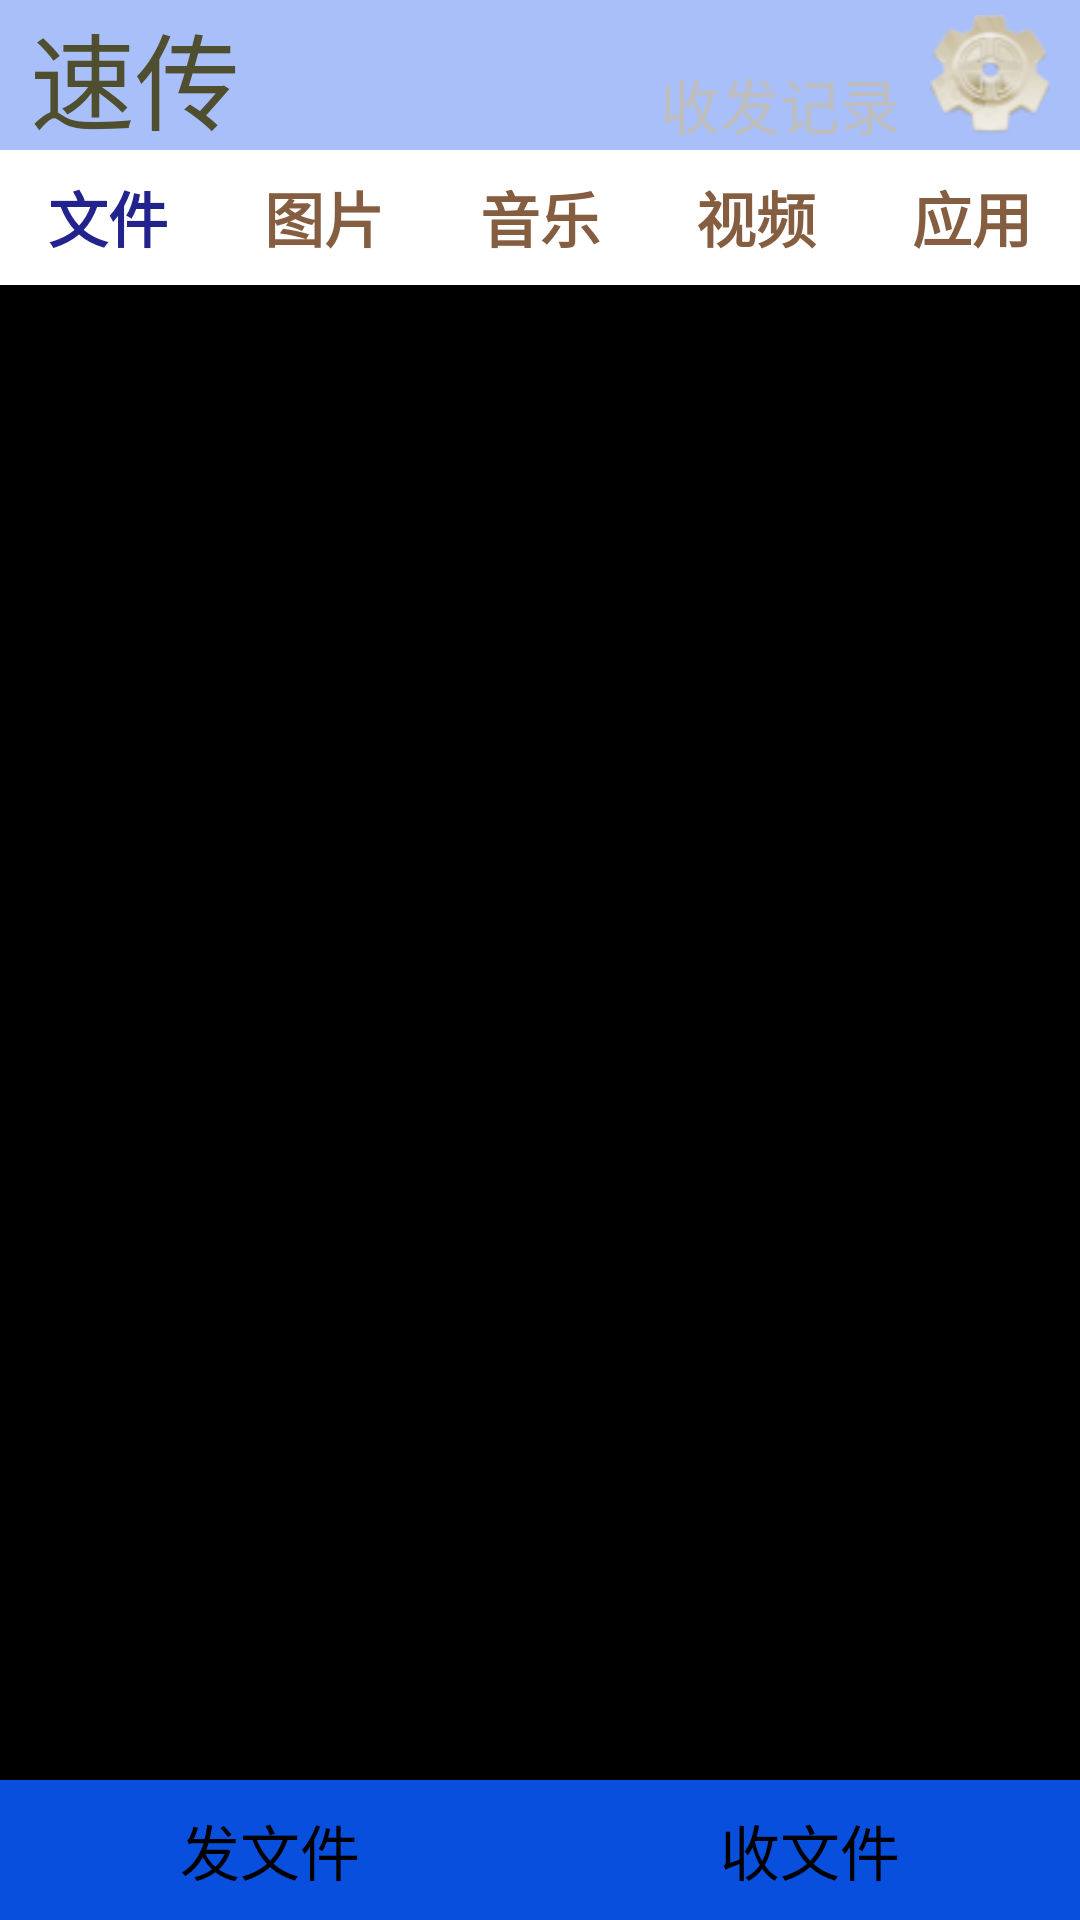

Point at icon controls on the screen. Image size 1080px×1920px, points as point (x, y).
shezhi: point (990, 73)
